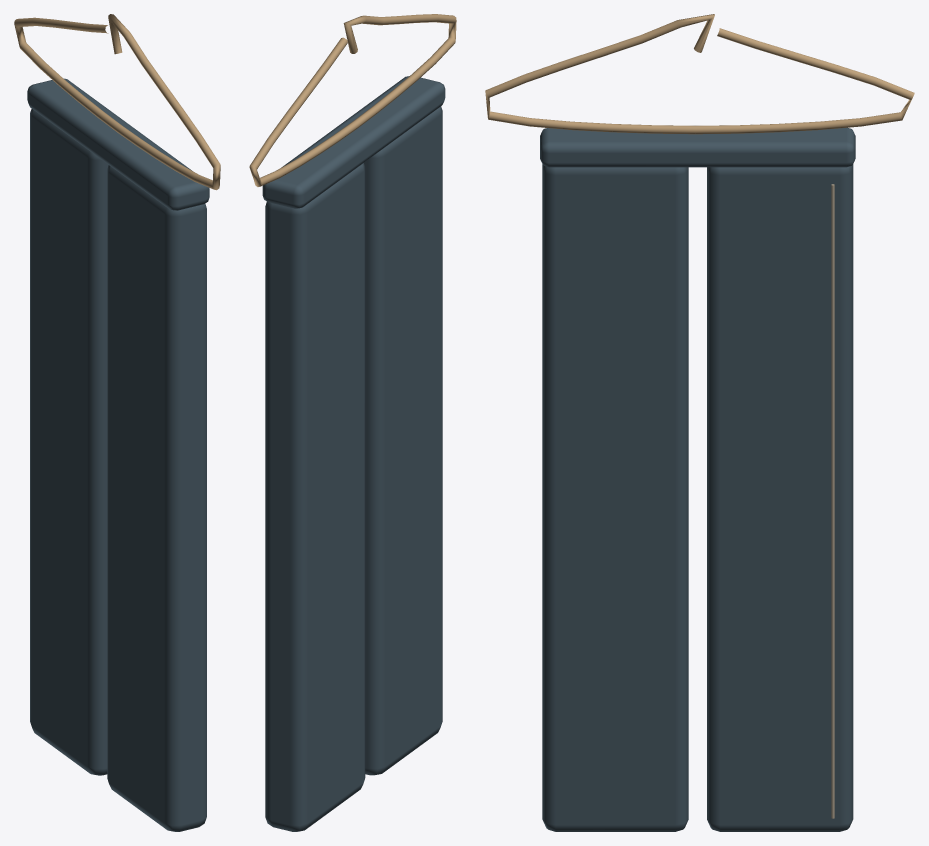
Rendered from trousers-balanced-36e7302e15.glb.
3 renders of one model, left to right at view 1: azimuth 30°, elevation 25°; view 2: azimuth 150°, elevation 25°; view 3: azimuth 270°, elevation 25°, orthographic. The views are drawn at different scales.
Visible parts, largest first — view 1: ink, oak; view 2: ink, oak; view 3: ink, oak, sole.
Boxes of the visible parts, x1,y1,x2,y2 form: ink: (27, 78, 209, 831); oak: (14, 14, 220, 190); ink: (262, 76, 445, 831); oak: (249, 14, 456, 186); ink: (540, 127, 855, 831); oak: (485, 14, 914, 134); sole: (831, 184, 834, 818).
Bounding box in the file's own units: 0.049 × 0.795 × 0.3811.
